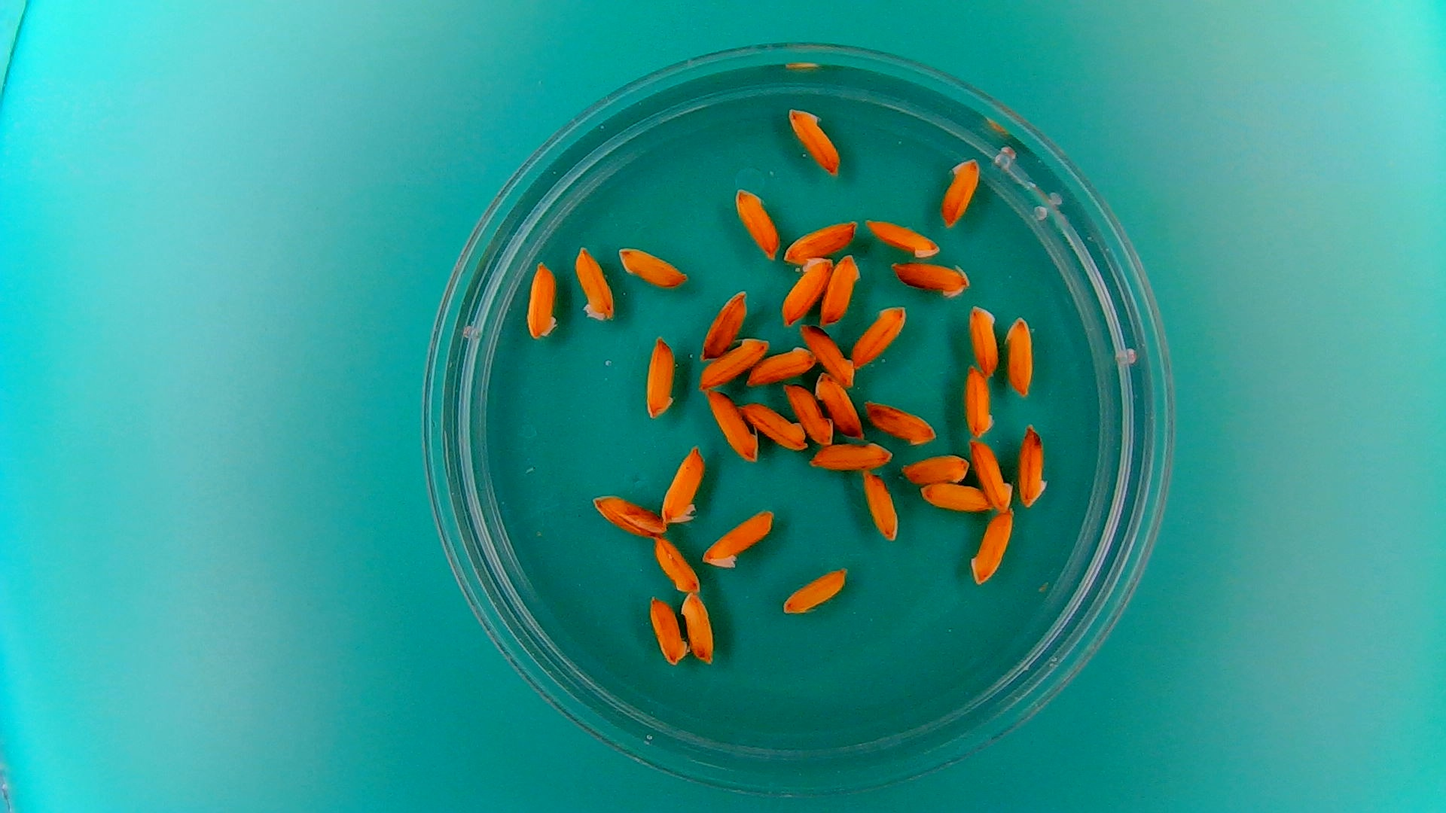no: (699, 504, 777, 571), (702, 385, 759, 464), (696, 333, 771, 390), (782, 109, 844, 176), (779, 254, 834, 327), (657, 440, 704, 525), (737, 397, 809, 452), (587, 490, 669, 538), (779, 564, 850, 618), (850, 303, 908, 369), (732, 185, 782, 261), (780, 215, 859, 263), (861, 397, 938, 446), (967, 509, 1014, 588), (800, 322, 856, 386), (700, 287, 748, 361), (781, 380, 834, 447), (968, 437, 1014, 513), (889, 258, 972, 300), (642, 331, 682, 416), (863, 216, 940, 260), (575, 242, 616, 324), (814, 370, 862, 440), (615, 244, 689, 289), (744, 342, 816, 387), (859, 467, 901, 544), (819, 252, 862, 327), (939, 154, 982, 228), (646, 593, 688, 668), (809, 437, 895, 473), (523, 258, 560, 340), (1017, 421, 1051, 510), (651, 534, 701, 594), (681, 588, 718, 667), (1003, 312, 1036, 397), (966, 302, 1002, 378), (919, 479, 993, 514), (962, 363, 996, 439), (899, 451, 969, 487)
